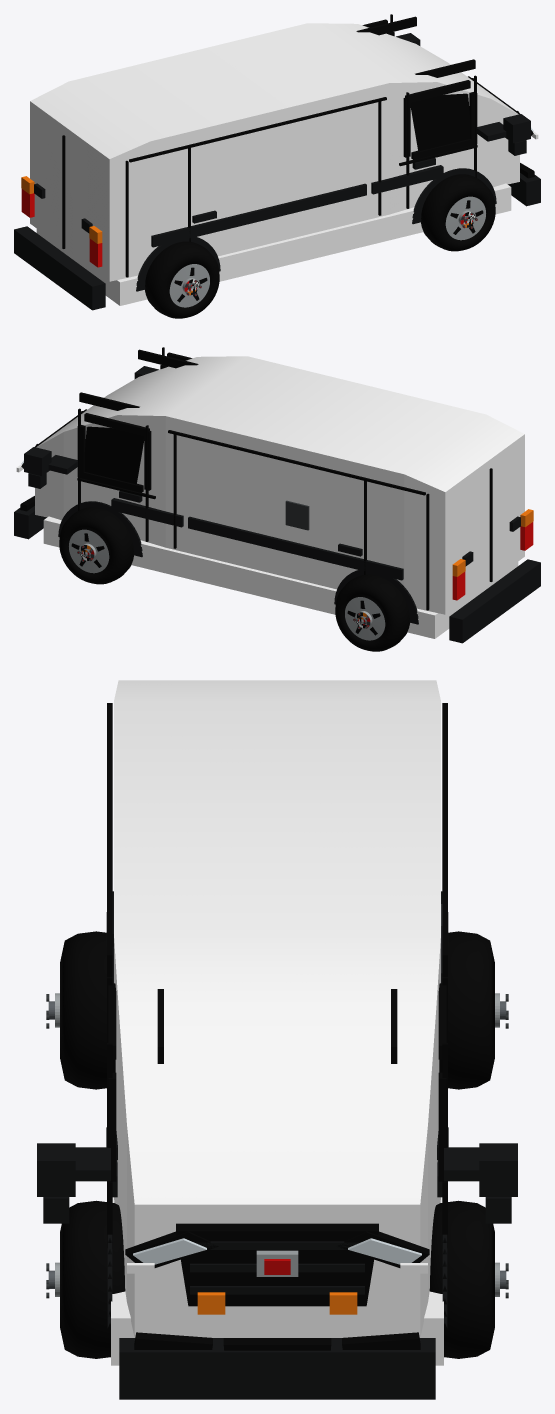
The model's file is fiat_ducato_x290_lowpoly.glb.
3 renders of one model, top to bottom at view 1: azimuth 30°, elevation 25°; view 2: azimuth 150°, elevation 25°; view 3: azimuth 270°, elevation 25°, orthographic. The views are drawn at different scales.
Visible parts, largest first — view 1: CHASSIS_BODY, WHEEL_RR, WHEEL_FR; view 2: CHASSIS_BODY, WHEEL_RL, WHEEL_FL; view 3: CHASSIS_BODY, WHEEL_FL, WHEEL_FR, WHEEL_RL, WHEEL_RR.
Part boxes in pixels (bbox=[...]): CHASSIS_BODY: bbox=[14, 14, 540, 310]; WHEEL_RR: bbox=[145, 241, 219, 318]; WHEEL_FR: bbox=[421, 174, 495, 251]; CHASSIS_BODY: bbox=[14, 347, 540, 643]; WHEEL_RL: bbox=[335, 574, 409, 651]; WHEEL_FL: bbox=[59, 507, 133, 584]; CHASSIS_BODY: bbox=[37, 680, 517, 1399]; WHEEL_FL: bbox=[429, 1200, 508, 1358]; WHEEL_FR: bbox=[46, 1200, 125, 1358]; WHEEL_RL: bbox=[448, 931, 508, 1089]; WHEEL_RR: bbox=[46, 931, 106, 1089].
Size of the model in its own units: 6.75 by 2.55 by 3.13.
1 material, 1 textured.
